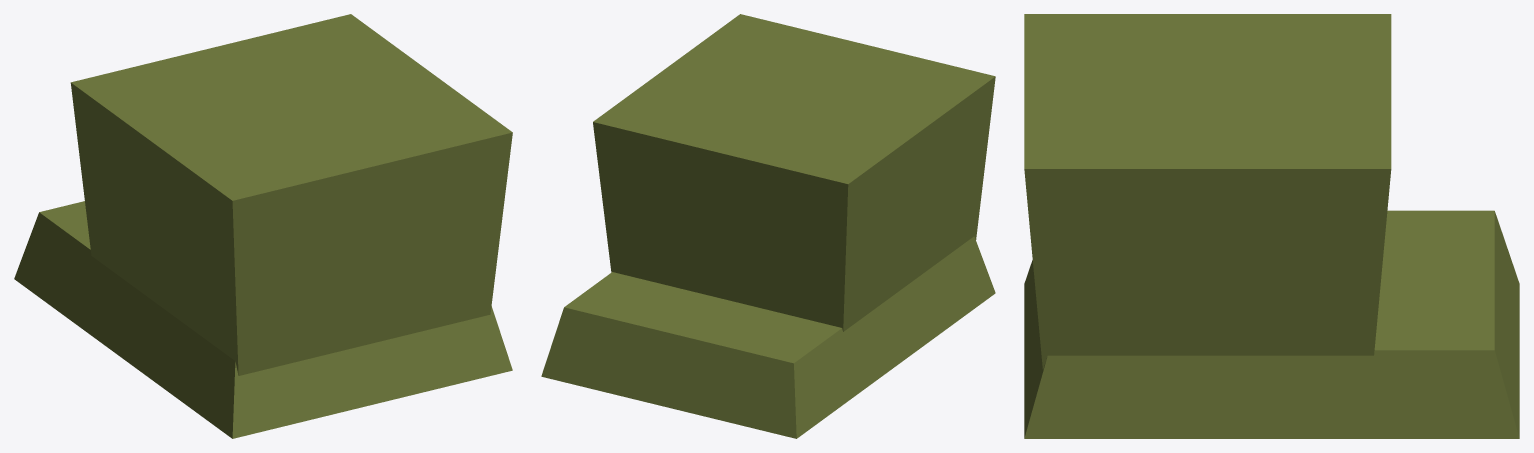
Rendered from animal_dryad_berrymaker_leg.obj.
3 renders of one model, left to right at view 1: azimuth 30°, elevation 25°; view 2: azimuth 150°, elevation 25°; view 3: azimuth 270°, elevation 25°, orthographic. The views are drawn at different scales.
Visible parts, largest first — view 1: animal_dryad_berrymaker_leg; view 2: animal_dryad_berrymaker_leg; view 3: animal_dryad_berrymaker_leg.
Boxes of the visible parts, x1,y1,x2,y2 form: animal_dryad_berrymaker_leg: (14, 14, 512, 438); animal_dryad_berrymaker_leg: (541, 14, 995, 438); animal_dryad_berrymaker_leg: (1024, 14, 1519, 438).
Size of the model in its own units: 0.1178 by 0.0956 by 0.159.
